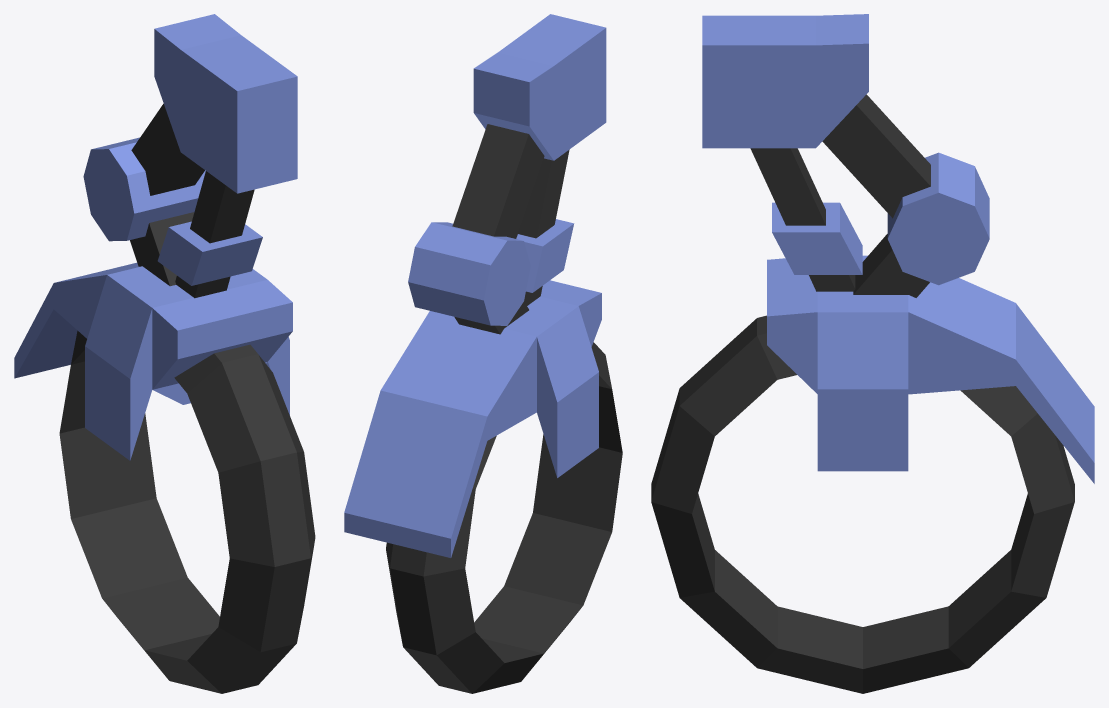
File: RollerLower.glb
3 views of the same model, side by side, from view 1: azimuth 30°, elevation 25°; view 2: azimuth 150°, elevation 25°; view 3: azimuth 270°, elevation 25° (orthographic). The views are drawn at different scales.
Visible parts, largest first — view 1: Movement, Movement.001; view 2: Movement, Movement.001; view 3: Movement, Movement.001.
Boxes of the visible parts, x1,y1,x2,y2 form: Movement: (14, 14, 297, 460); Movement.001: (59, 330, 315, 693); Movement: (344, 14, 606, 557); Movement.001: (386, 342, 622, 693); Movement: (702, 14, 1094, 483); Movement.001: (651, 315, 1074, 693).
Size of the model in its own units: 1.08 by 4.23 by 2.59.
